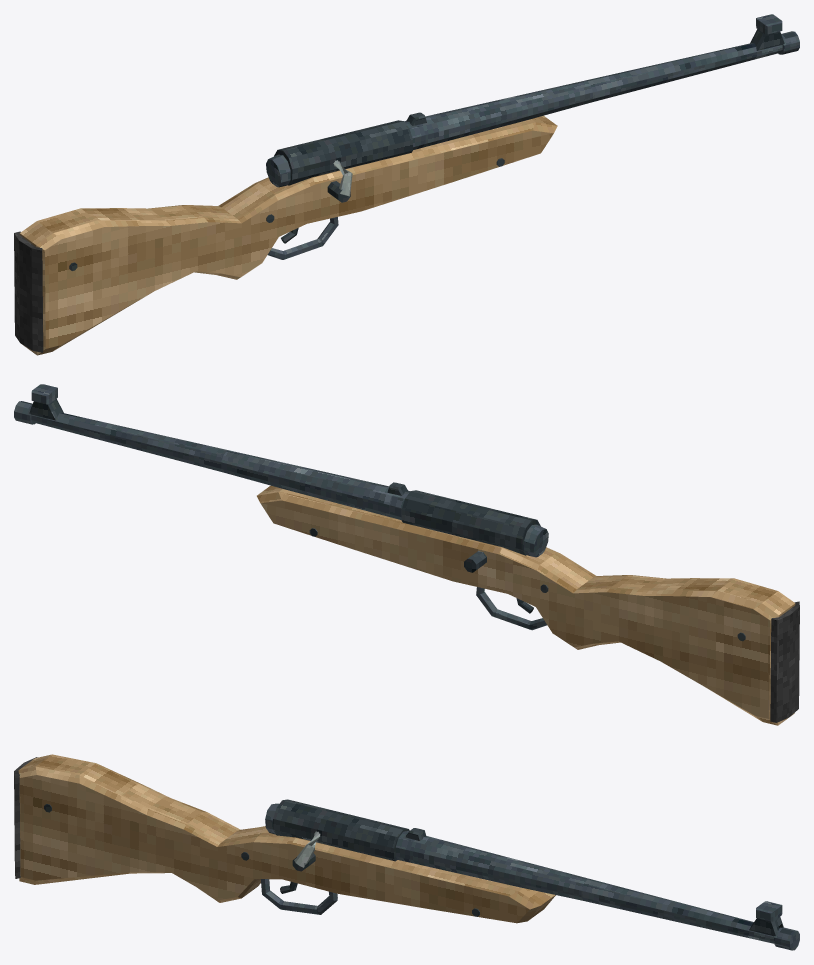
The model's file is 09_rifle_vl.glb.
The picture shows the model from 3 angles, top to bottom: view 1: azimuth 30°, elevation 25°; view 2: azimuth 150°, elevation 25°; view 3: azimuth 330°, elevation 25°; orthographic projection.
Visible parts, largest first — view 1: 09_rifle_vl; view 2: 09_rifle_vl; view 3: 09_rifle_vl.
Boxes of the visible parts, <box> form: 09_rifle_vl: <box>14,14,799,355</box>; 09_rifle_vl: <box>14,384,799,725</box>; 09_rifle_vl: <box>14,754,799,950</box>.
Bounding box in the file's own units: 1.03 × 0.1902 × 0.1081.
Materials: 1 (1 with a texture image).
